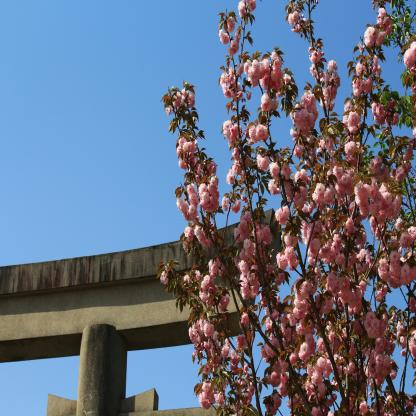YaeSakura: (159, 0, 416, 416)
